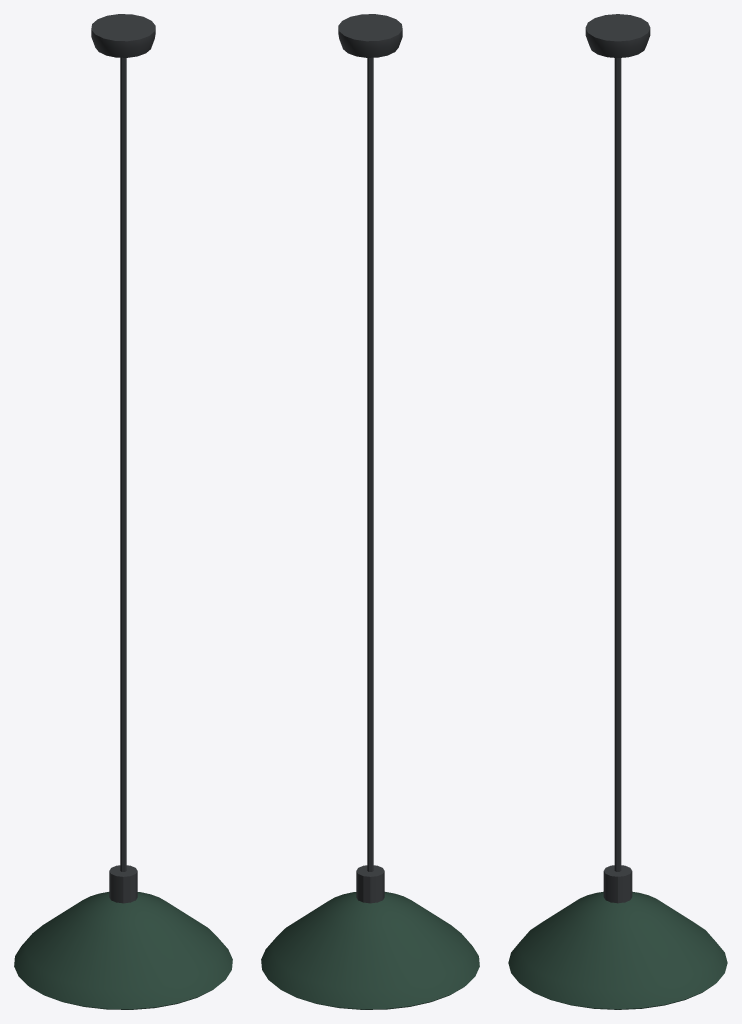
Rendered from prop_sh_pendant_enamel.glb.
3 renders of one model, left to right at view 1: azimuth 30°, elevation 25°; view 2: azimuth 150°, elevation 25°; view 3: azimuth 270°, elevation 25°, orthographic.
Parts seen in each view (by area): view 1: Pendant; view 2: Pendant; view 3: Pendant.
Boxes of the visible parts, bbox=[...] form: Pendant: bbox=[14, 14, 232, 1009]; Pendant: bbox=[261, 14, 479, 1009]; Pendant: bbox=[508, 14, 727, 1009].
Bounding box in the file's own units: 0.54 × 2.54 × 0.54.
